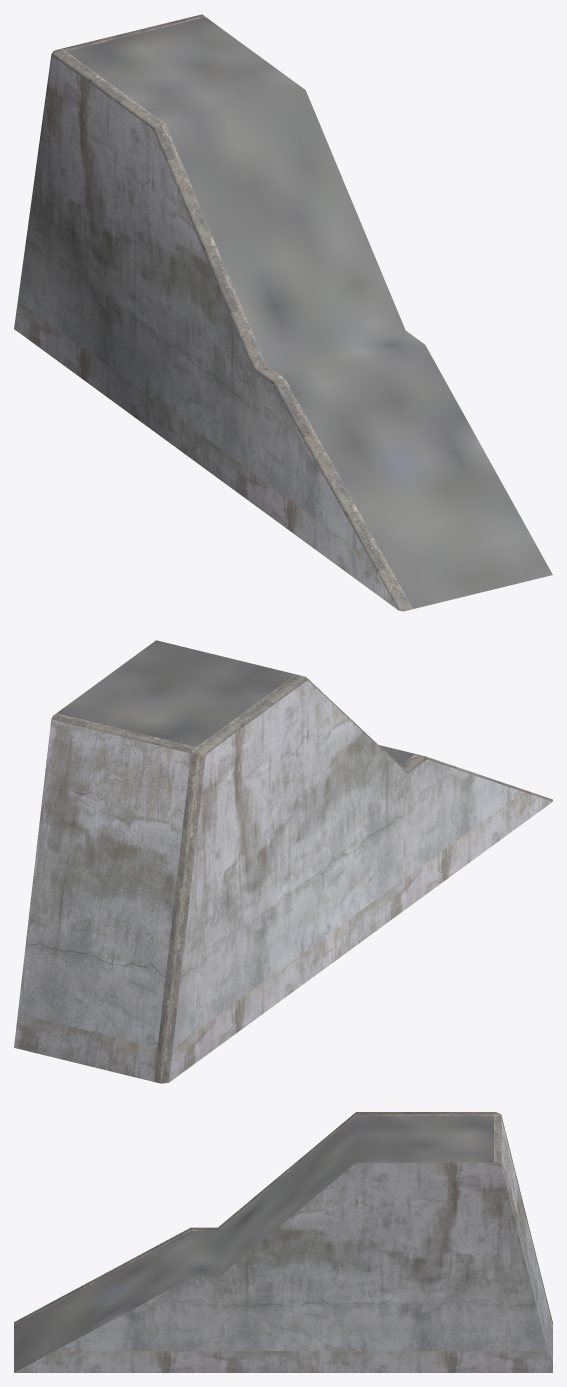
File: JpHouseJ_StoneWall_slope15l.fbx
3 views of the same model, one above another, from view 1: azimuth 30°, elevation 25°; view 2: azimuth 150°, elevation 25°; view 3: azimuth 270°, elevation 25° (orthographic). The views are drawn at different scales.
Parts seen in each view (by area): view 1: JpHouseJ_StoneWall_slope15l; view 2: JpHouseJ_StoneWall_slope15l; view 3: JpHouseJ_StoneWall_slope15l.
Boxes of the visible parts, box(x1,y1,x2,y2) form: JpHouseJ_StoneWall_slope15l: box(14, 14, 552, 611); JpHouseJ_StoneWall_slope15l: box(14, 640, 552, 1083); JpHouseJ_StoneWall_slope15l: box(14, 1112, 552, 1372).
Size of the model in its own units: 2.11 by 4.03 by 9.36.
